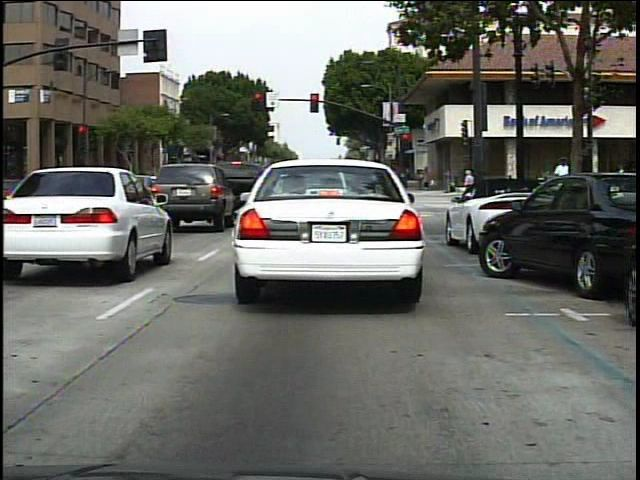person: (551, 152, 575, 215), (612, 156, 633, 209), (460, 163, 482, 212), (420, 163, 437, 193), (440, 164, 453, 195), (36, 164, 50, 190)
